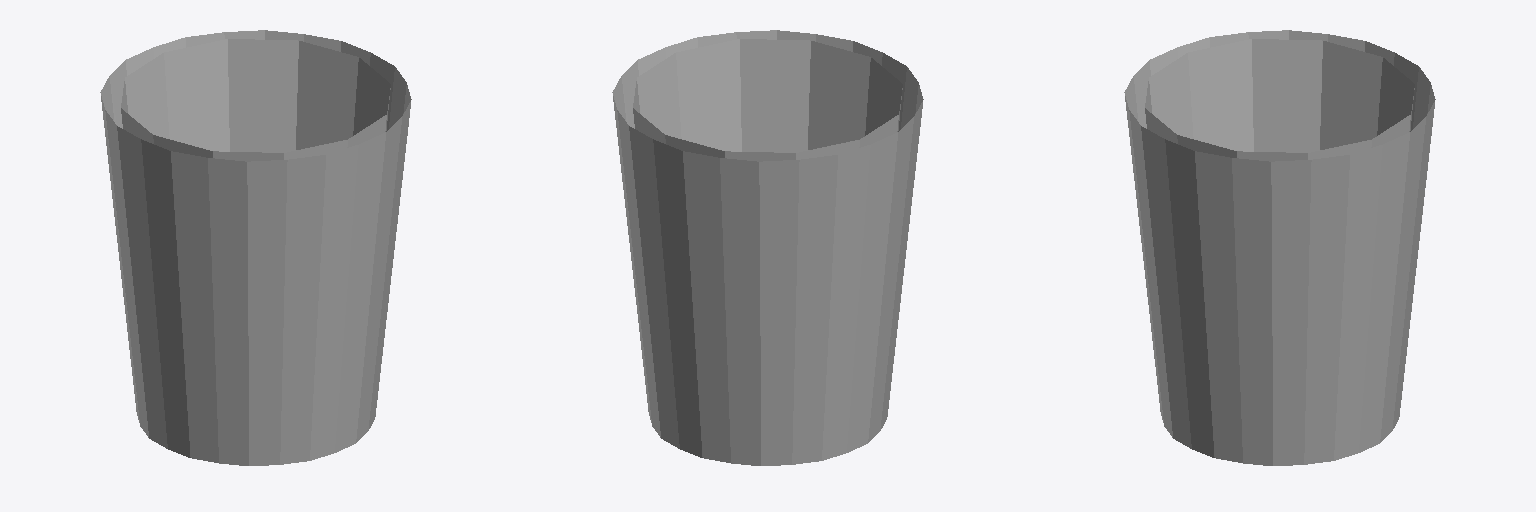
3 views of the same model, side by side, from view 1: azimuth 30°, elevation 25°; view 2: azimuth 150°, elevation 25°; view 3: azimuth 270°, elevation 25° (orthographic).
Visible parts, largest first — view 1: Bistro_Research_Exterior_Paris_StreetLight_Glass_01B___2__6353; view 2: Bistro_Research_Exterior_Paris_StreetLight_Glass_01B___2__6353; view 3: Bistro_Research_Exterior_Paris_StreetLight_Glass_01B___2__6353.
Boxes of the visible parts, x1,y1,x2,y2 form: Bistro_Research_Exterior_Paris_StreetLight_Glass_01B___2__6353: [100, 30, 411, 465]; Bistro_Research_Exterior_Paris_StreetLight_Glass_01B___2__6353: [612, 30, 923, 465]; Bistro_Research_Exterior_Paris_StreetLight_Glass_01B___2__6353: [1124, 30, 1435, 465].
Bounding box in the file's own units: 0.514 × 0.5834 × 0.514.